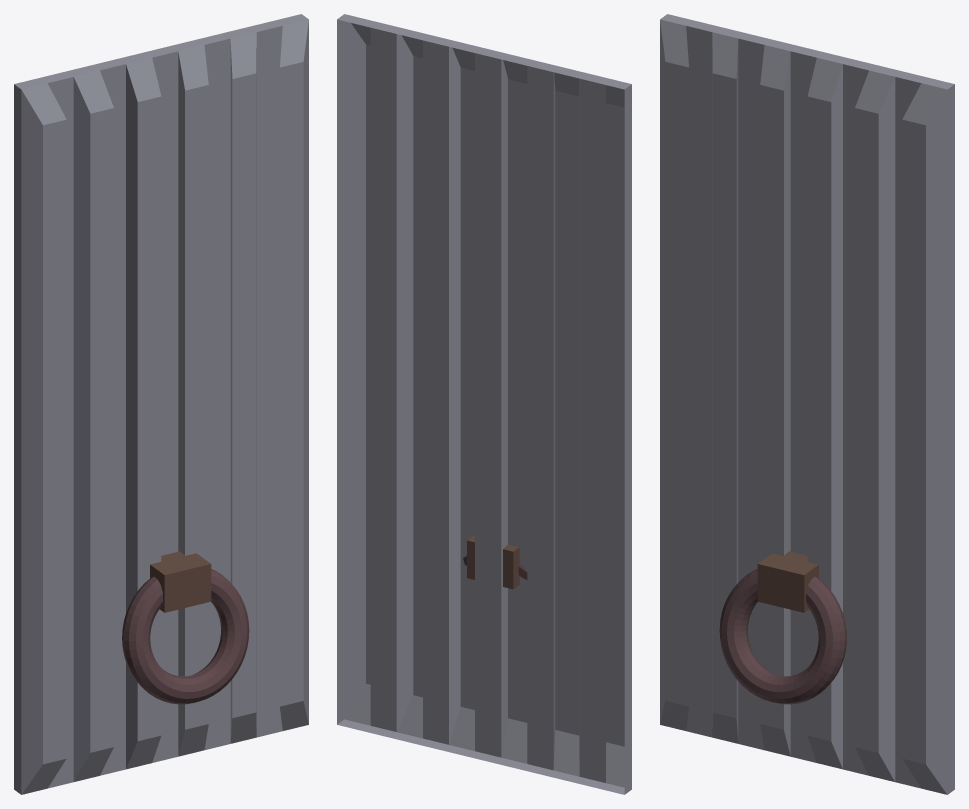
File: Door.fbx
3 views of the same model, side by side, from view 1: azimuth 30°, elevation 25°; view 2: azimuth 150°, elevation 25°; view 3: azimuth 330°, elevation 25° (orthographic).
Parts seen in each view (by area): view 1: дверь правая; view 2: дверь правая; view 3: дверь правая.
Boxes of the visible parts, x1=… form: дверь правая: x1=14, y1=14, x2=308, y2=794; дверь правая: x1=337, y1=14, x2=631, y2=794; дверь правая: x1=660, y1=14, x2=954, y2=794.
Bounding box in the file's own units: 209 × 490 × 52.86.
